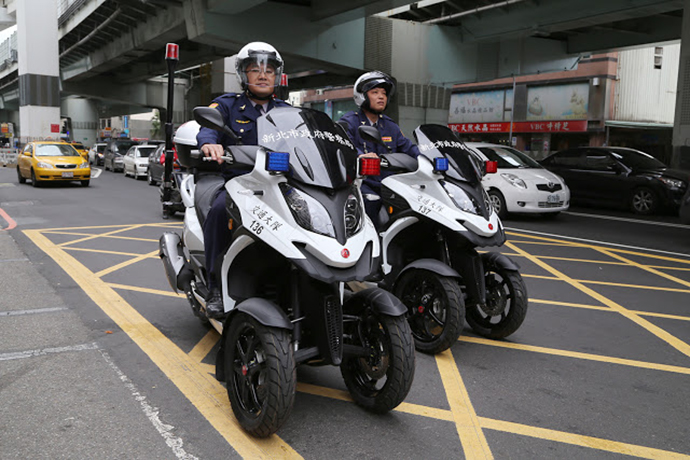helmet: (232, 43, 296, 93), (352, 65, 397, 102)
